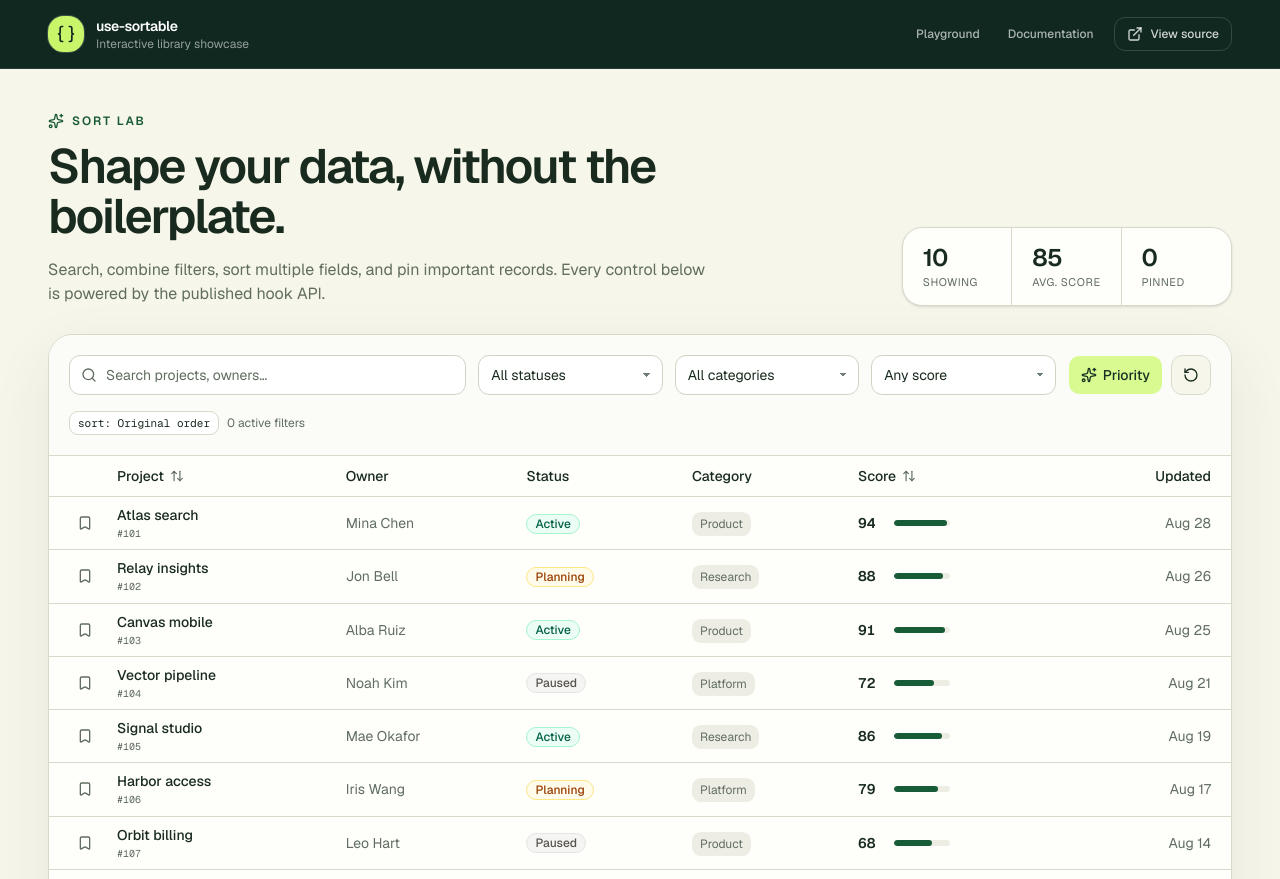
it: Sort Lab showcase › sorts the table in both directions and applies the priority preset
Click the button "Score".
click(887, 476)  # box 858,462 -> 916,490
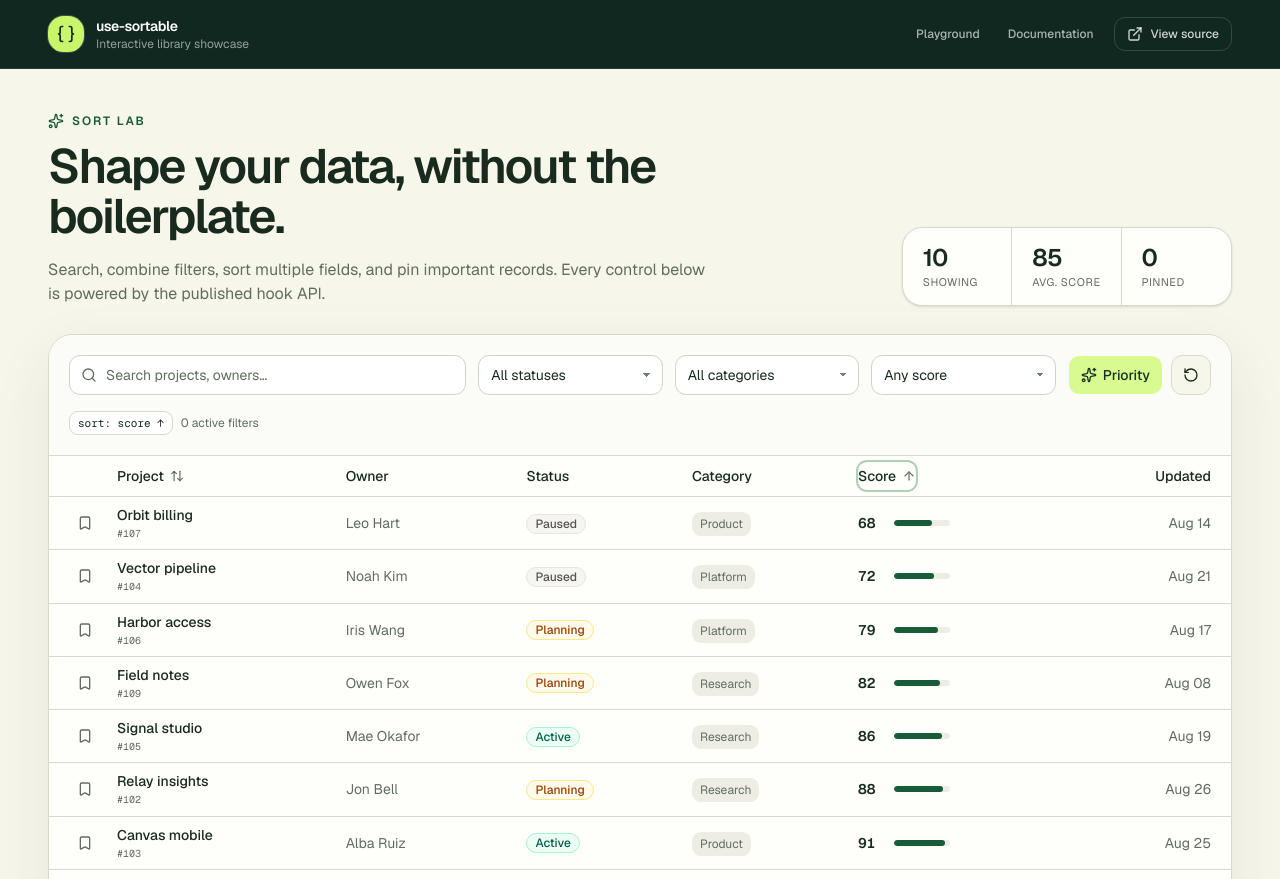
Check: the text "Orbit billing" is shown, box 117,506 -> 193,524
Click the button "Score".
click(887, 476)  # box 858,462 -> 916,490
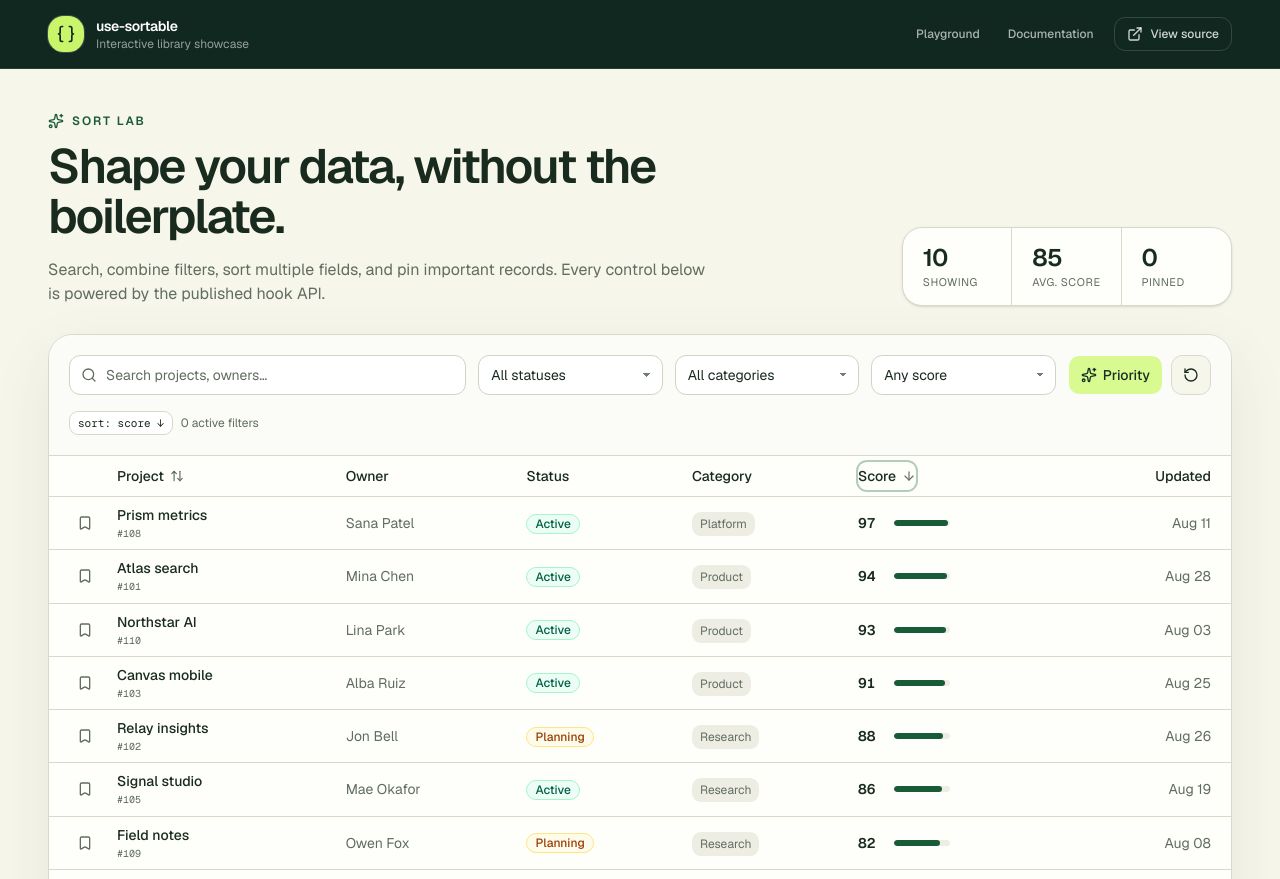
Check: the text "Prism metrics" is shown, box 117,506 -> 207,524
Click the button "Priority".
click(1115, 375)  # box 1068,355 -> 1163,395
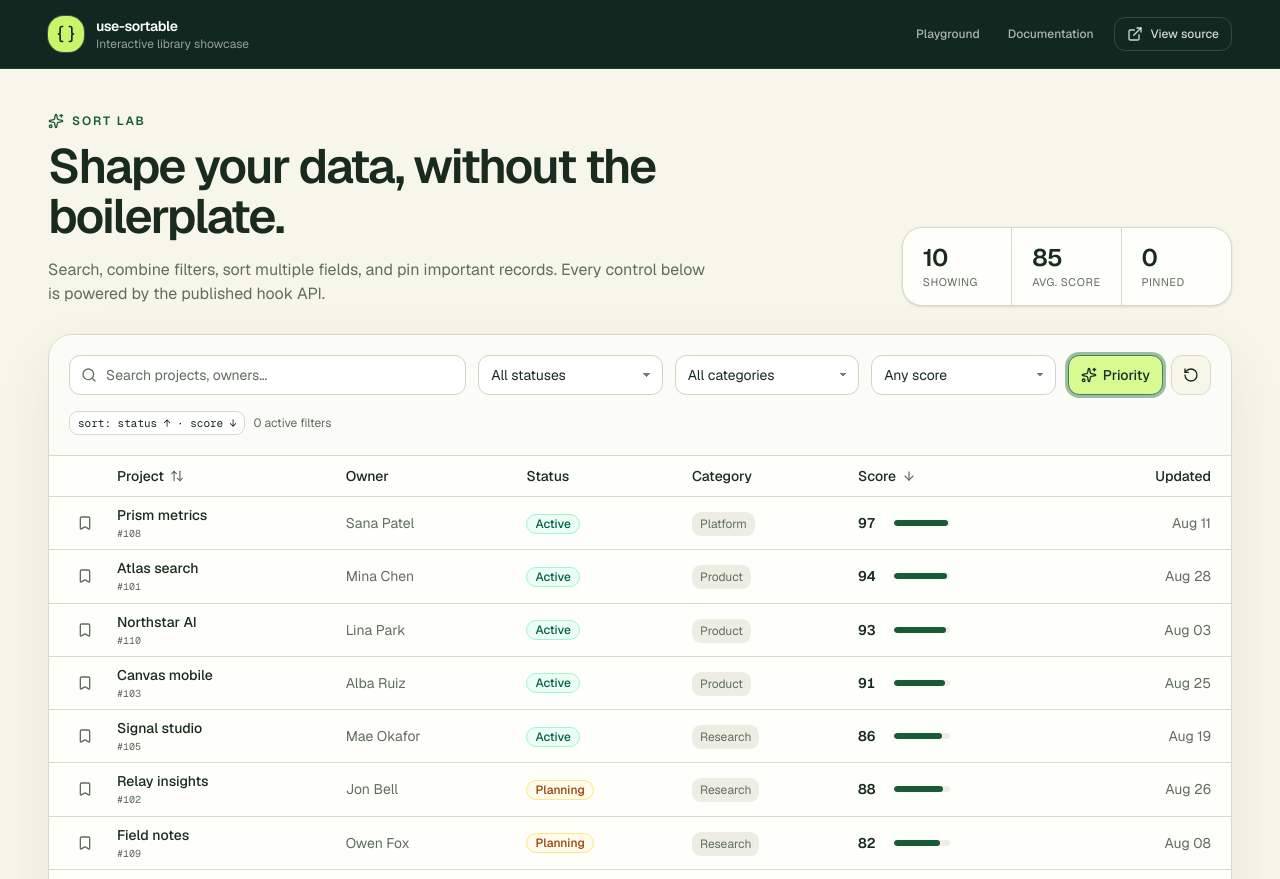
Check: the text "Prism metrics" is shown, box 117,506 -> 207,524
Check: the text "sort: status ↑ · score ↓" is shown, box 69,411 -> 245,436
